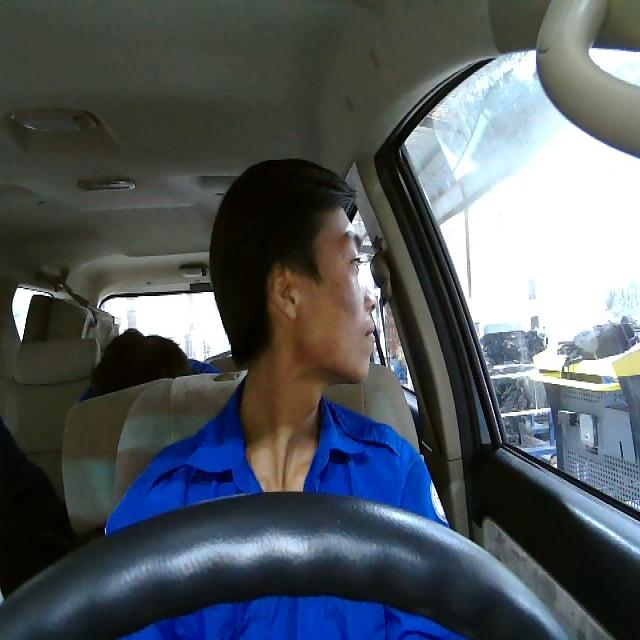seeing_right: (265, 199, 378, 385)
